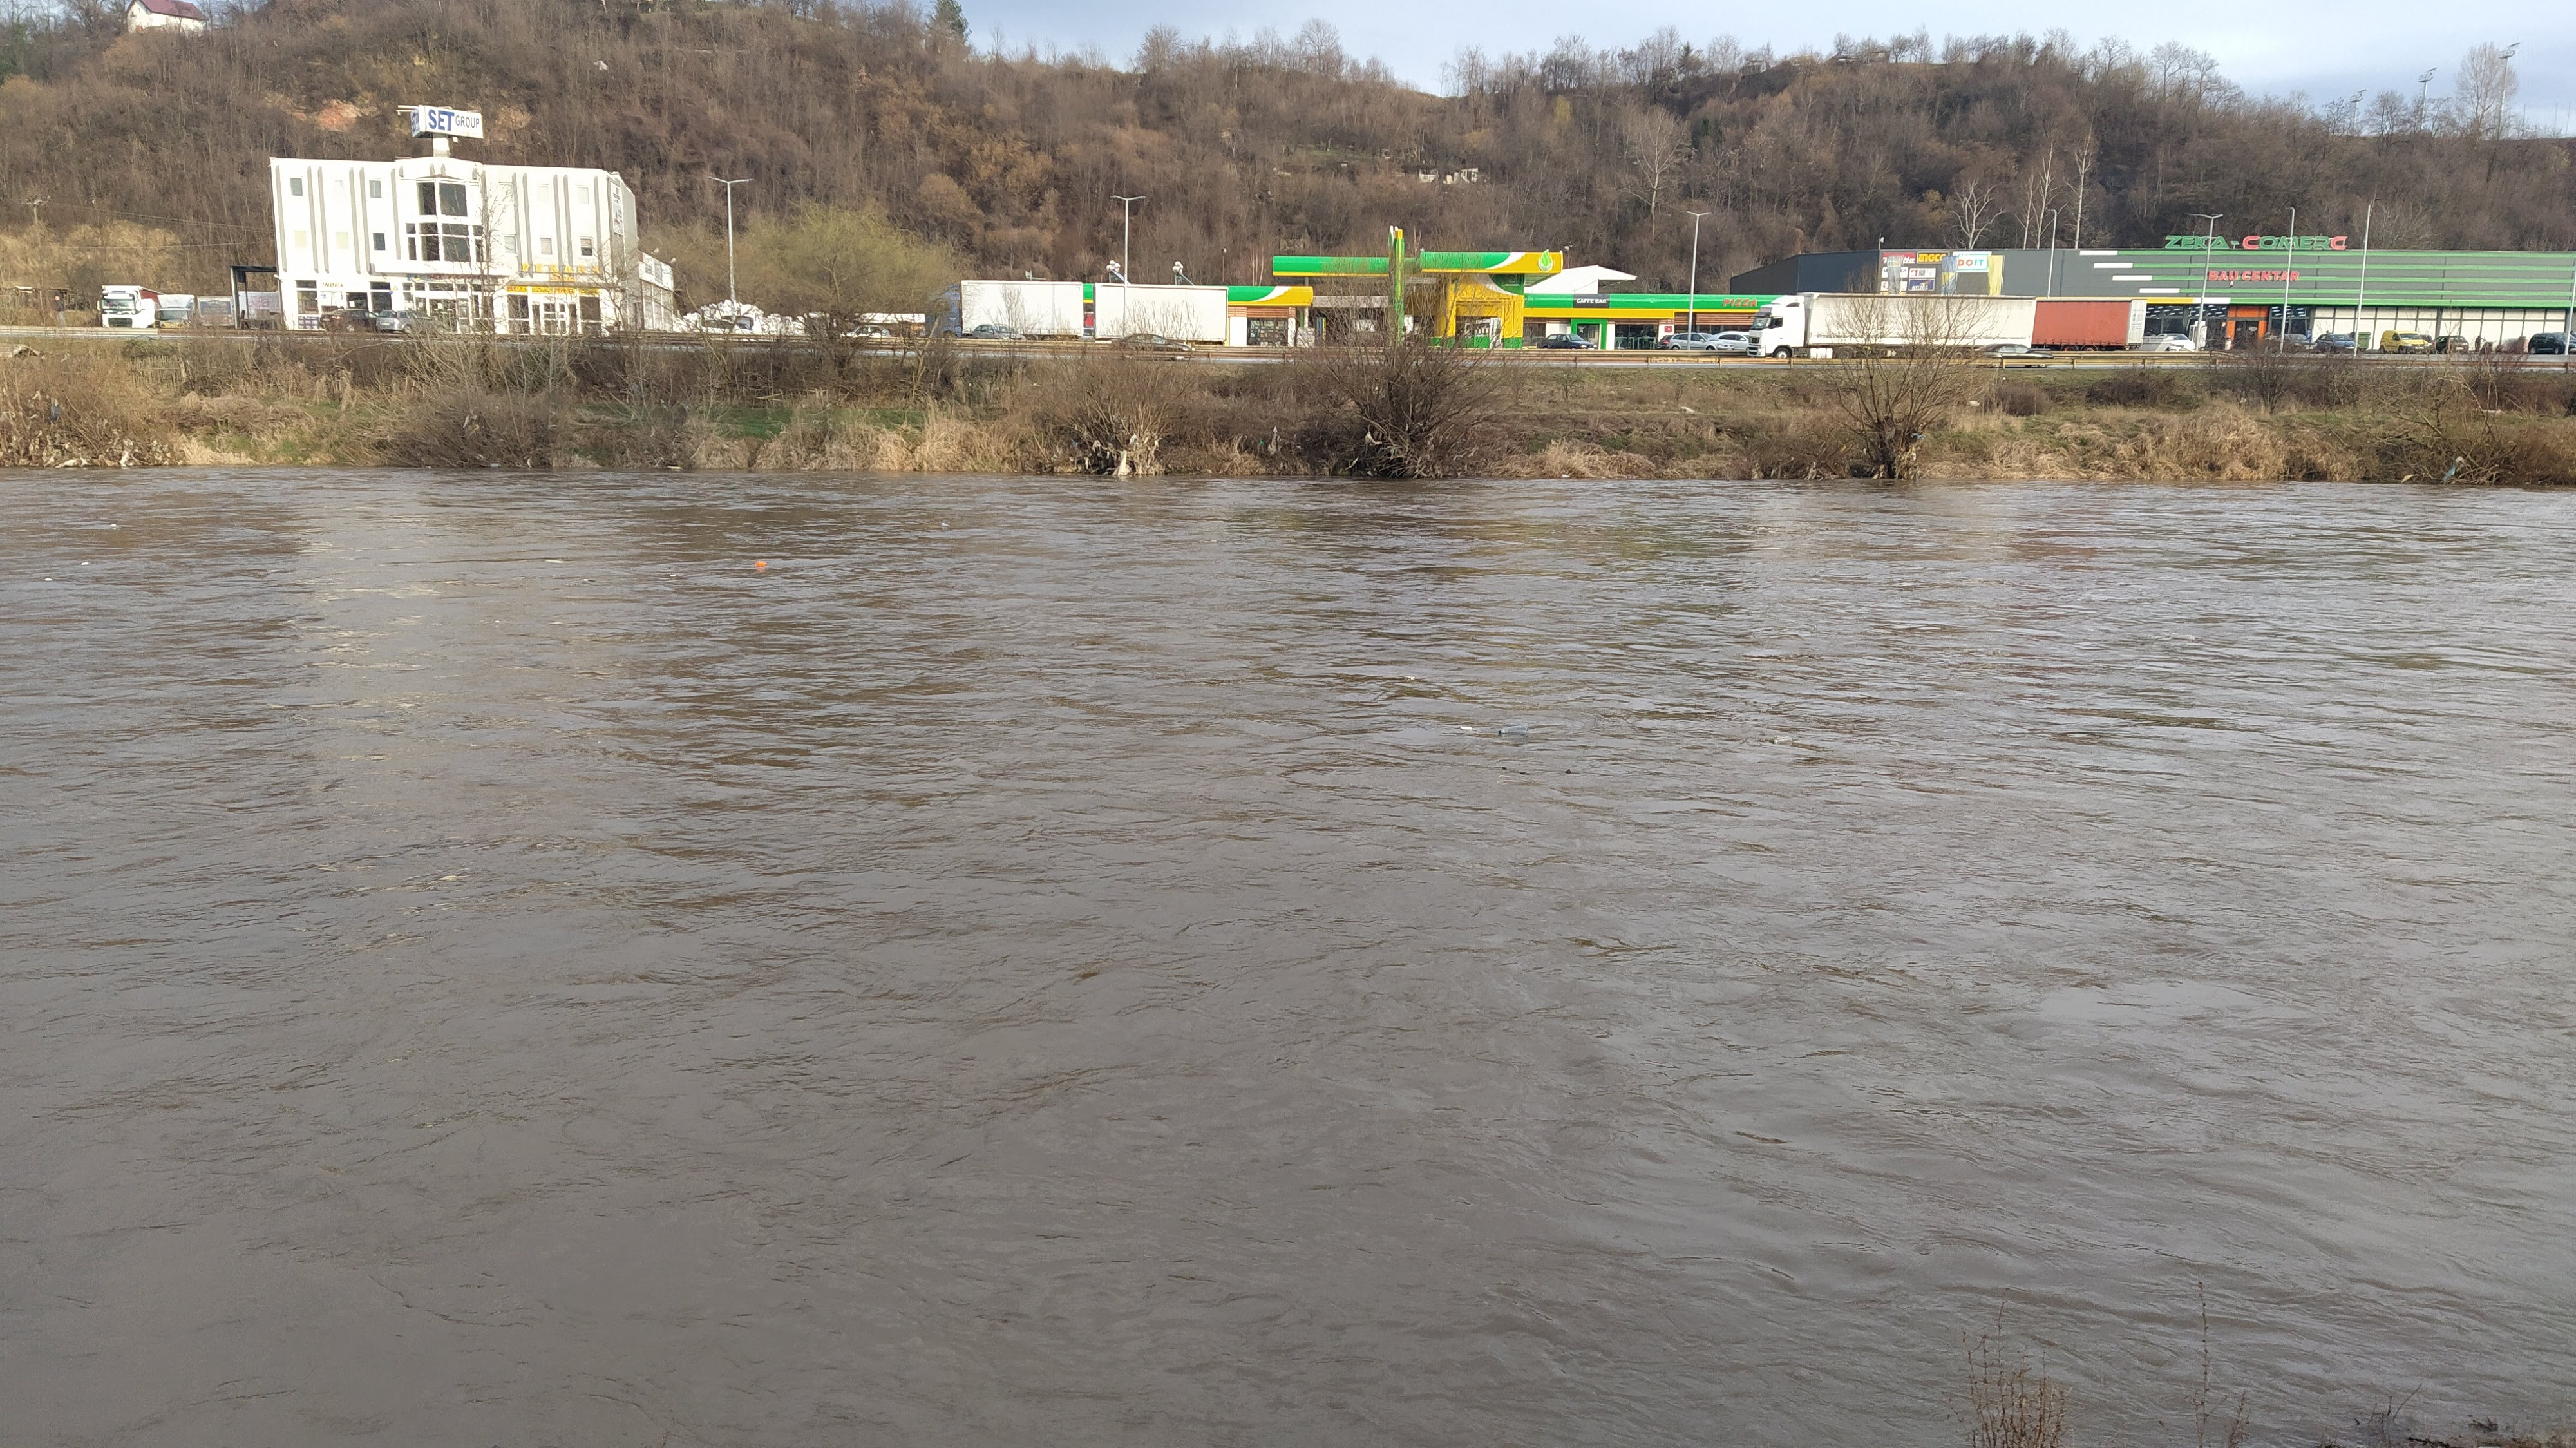Plastic Bottle: (1499, 724, 1527, 735), (1773, 736, 1792, 743), (755, 561, 766, 566), (490, 464, 502, 467), (727, 485, 736, 489), (941, 522, 948, 526), (1562, 474, 1569, 478)
